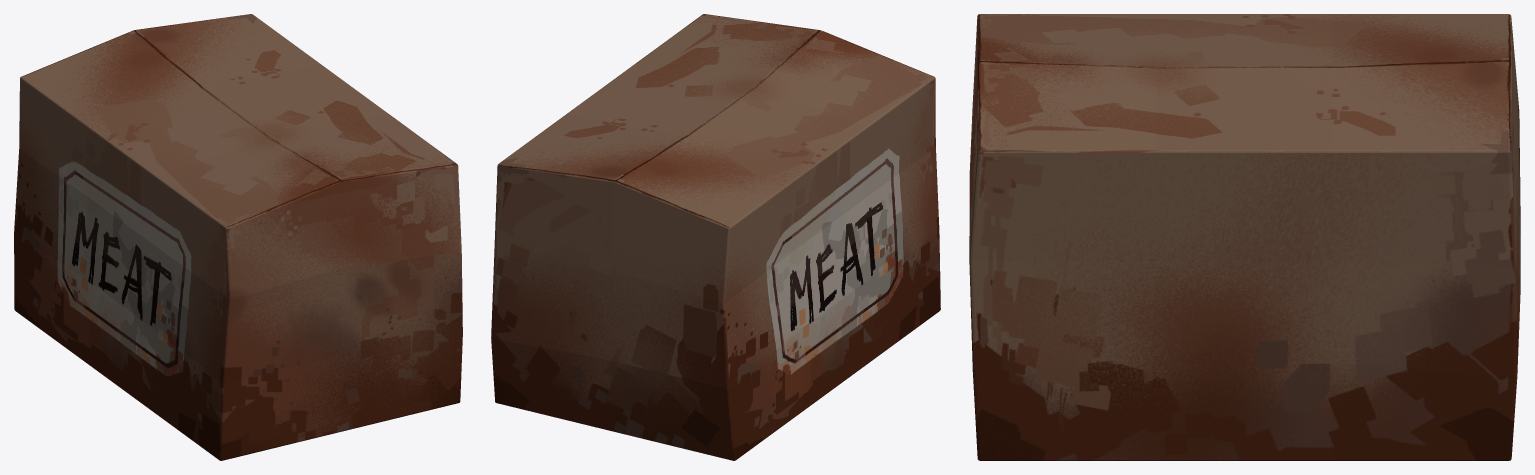
File: MeatBox.obj
The picture shows the model from 3 angles, left to right: view 1: azimuth 30°, elevation 25°; view 2: azimuth 150°, elevation 25°; view 3: azimuth 270°, elevation 25°; orthographic projection. The views are drawn at different scales.
Visible parts, largest first — view 1: Cube_Material; view 2: Cube_Material; view 3: Cube_Material.
Boxes of the visible parts, <box> form: Cube_Material: <box>14,14,462,460</box>; Cube_Material: <box>491,14,940,460</box>; Cube_Material: <box>969,14,1520,460</box>.
Size of the model in its own units: 1.35 by 1.34 by 2.06.
Materials: 1 (1 with a texture image).
